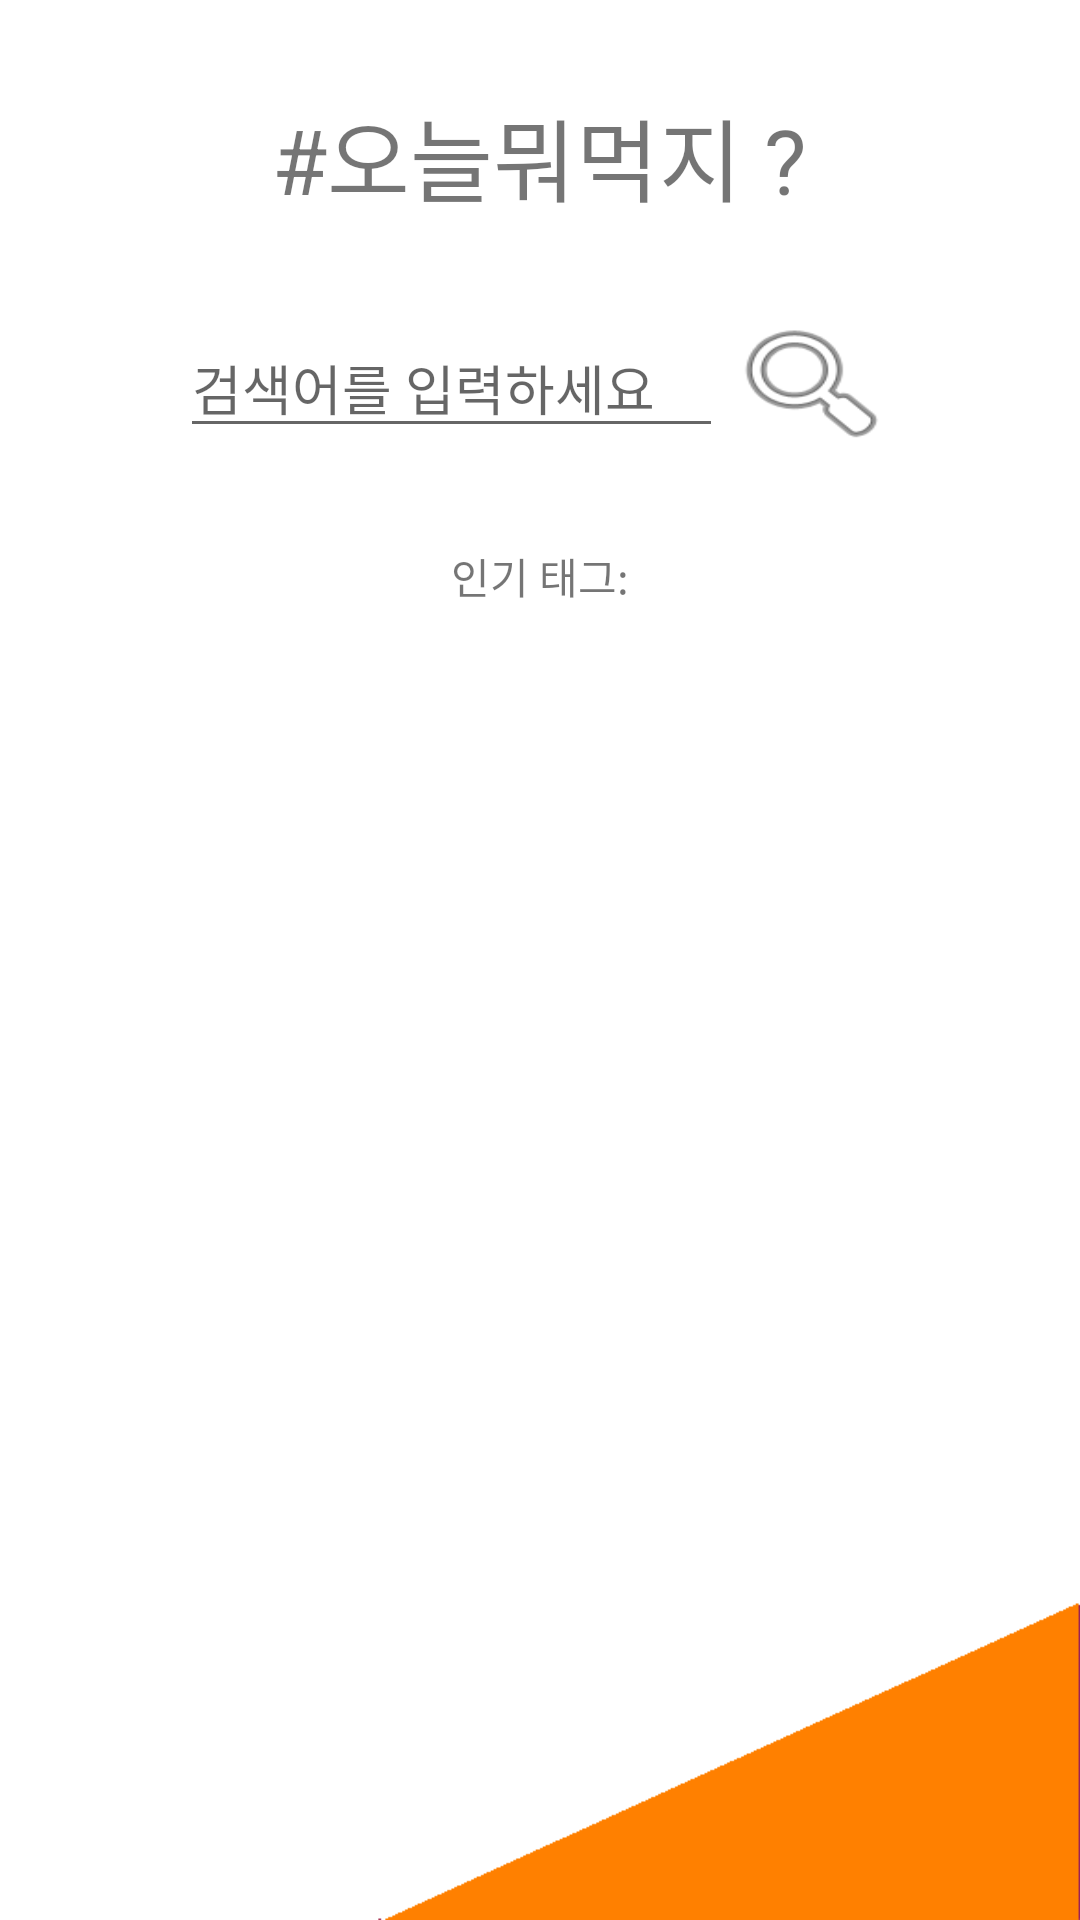

Icons on this 1080 x 1920 Android screen, each with the point to tap as (x,y):
search: (811,383)
